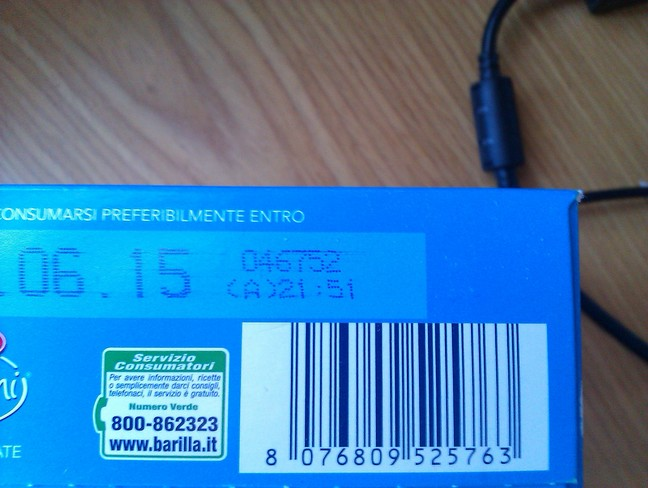detection: (240, 323, 545, 473)
